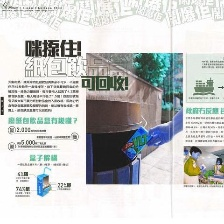carton: (118, 124, 148, 163), (34, 173, 50, 197)
drinking_straw: (139, 113, 149, 129), (40, 164, 52, 175)
